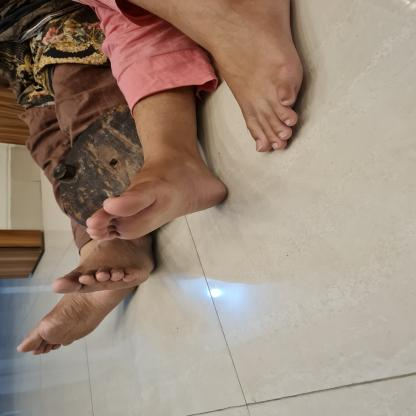leg: (123, 0, 324, 157), (76, 93, 236, 246), (10, 290, 132, 366), (46, 236, 168, 300)
